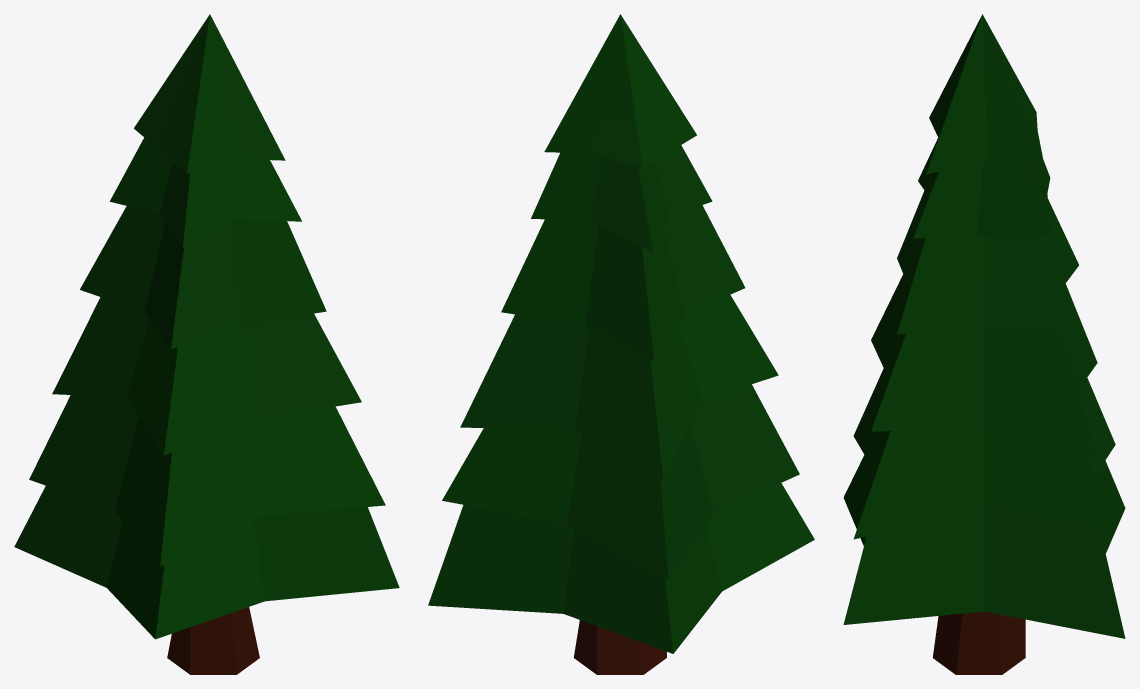
Rendered from tree.fbx.
3 renders of one model, left to right at view 1: azimuth 30°, elevation 25°; view 2: azimuth 150°, elevation 25°; view 3: azimuth 270°, elevation 25°, orthographic.
Parts seen in each view (by area): view 1: tree-pine; view 2: tree-pine; view 3: tree-pine.
Part boxes in pixels (<box>): tree-pine: <box>14,14,399,674</box>; tree-pine: <box>428,14,814,674</box>; tree-pine: <box>843,14,1125,674</box>.
Size of the model in its own units: 240 by 603 by 240.
